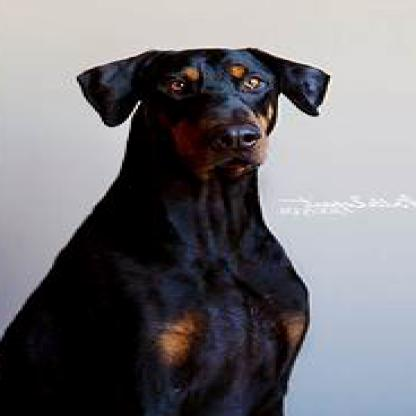dog: (2, 48, 330, 414)
